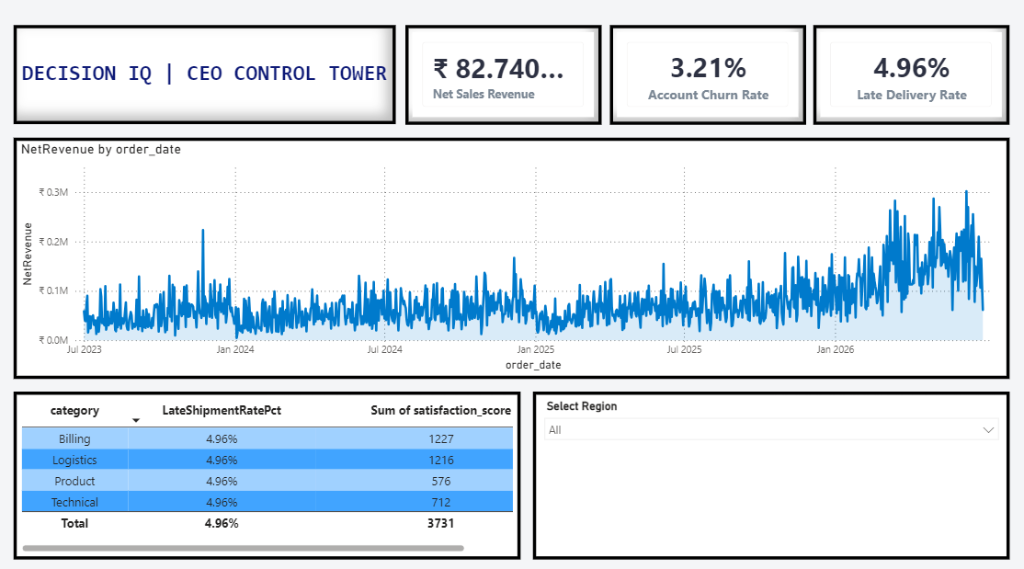

The page's visual inventory and layout, read from the dashboard file:
{"tool":"powerbi","page":{"name":"CEO Tower","canvas":[1280,720],"ordinal":0},"visuals":[{"type":"cardVisual","fields":{"Data":["_Measures (2).NetRevenue"]},"box":[508.8,41.3,243.8,123.8],"z":0},{"type":"cardVisual","fields":{"Data":["_Measures (2).CustomerChurnRatePct"]},"box":[762.5,41.3,243.8,123.8],"z":1000},{"type":"cardVisual","fields":{"Data":["_Measures (2).LateShipmentRatePct"]},"box":[1016.3,41.3,243.8,123.8],"z":2000},{"type":"areaChart","fields":{"Category":["orders.order_date"],"Y":["_Measures (2).NetRevenue"]},"box":[21.7,181.7,1238.3,300],"z":3000},{"type":"tableEx","fields":{"Values":["customer_support.category","_Measures (2).LateShipmentRatePct","Sum(customer_support.satisfaction_score)"]},"box":[21.4,497.1,630,208.6],"z":4000},{"type":"textbox","box":[21.7,41.7,475,123.3],"z":5000},{"type":"slicer","fields":{"Values":["regions.Column2"]},"box":[667.1,497.1,592.9,208.6],"z":6000}]}

Visuals, with their boxes in screenshot pixels (x1, y1, x2, y2), scaled from the page's 1280x720 canvas onto the 1024x569 screenshot:
cardVisual - _Measures (2).NetRevenue: 407 33 602 130
cardVisual - _Measures (2).CustomerChurnRatePct: 610 33 805 130
cardVisual - _Measures (2).LateShipmentRatePct: 813 33 1008 130
areaChart - orders.order_date x _Measures (2).NetRevenue: 17 144 1008 381
tableEx - customer_support.category x _Measures (2).LateShipmentRatePct: 17 393 521 558
textbox: 17 33 397 130
slicer - regions.Column2: 534 393 1008 558
